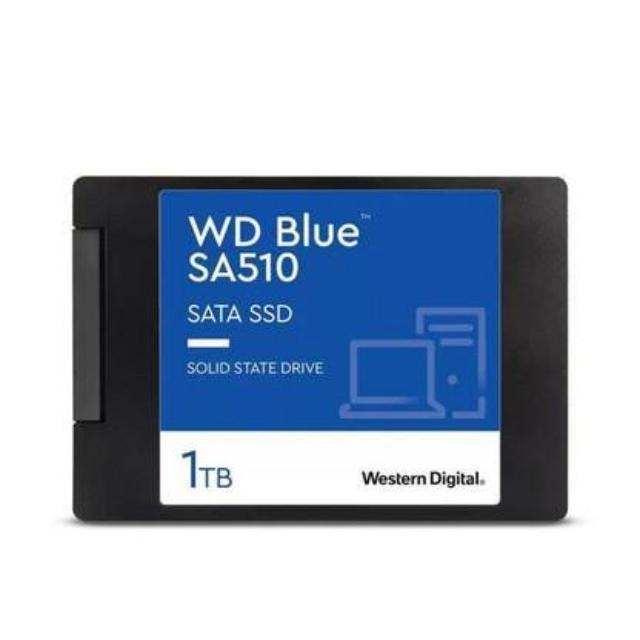DISK: (68, 167, 577, 535)
